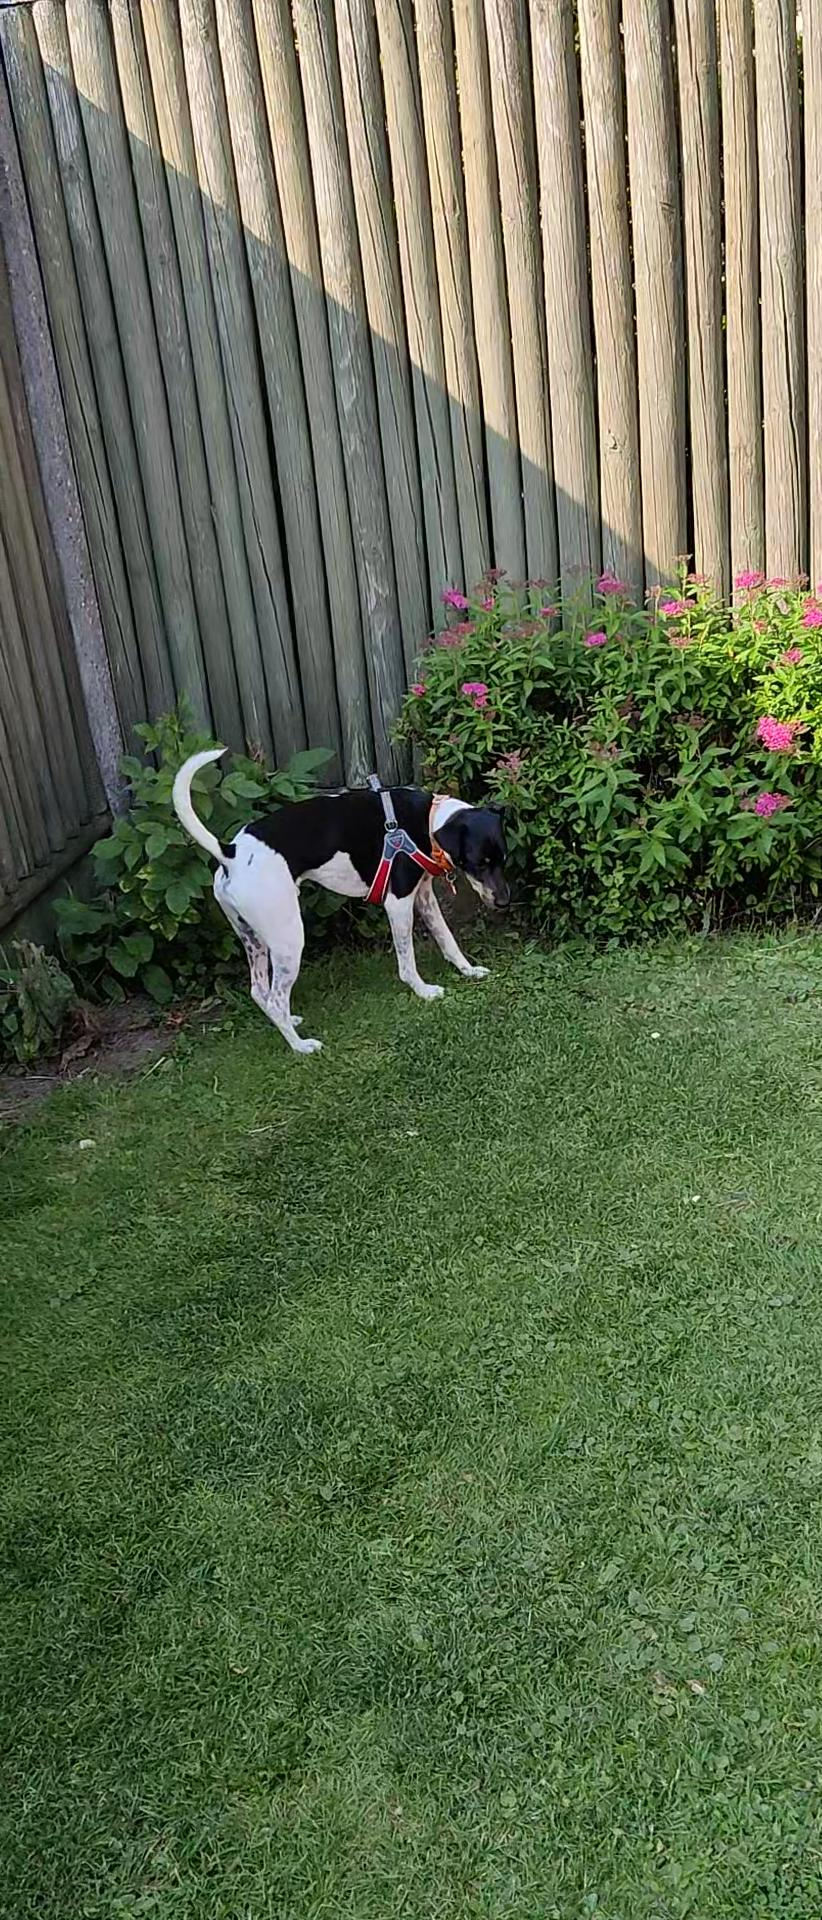Dog: (147, 729, 538, 1073)
